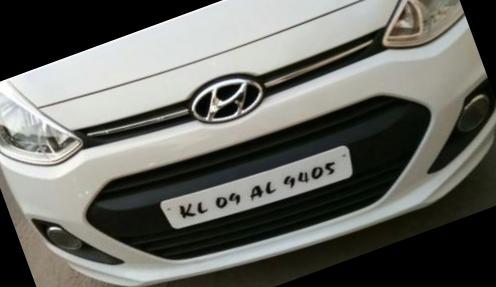plate: (146, 109, 395, 253)
